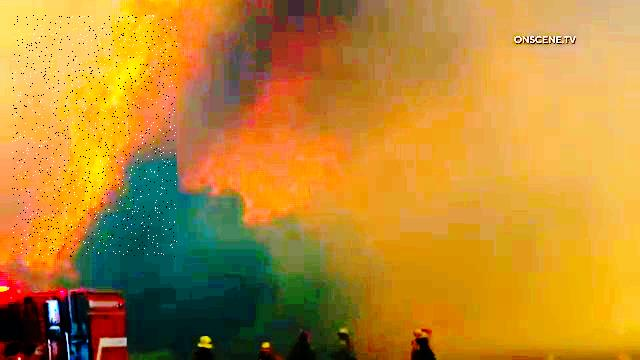fire: (12, 16, 177, 258)
